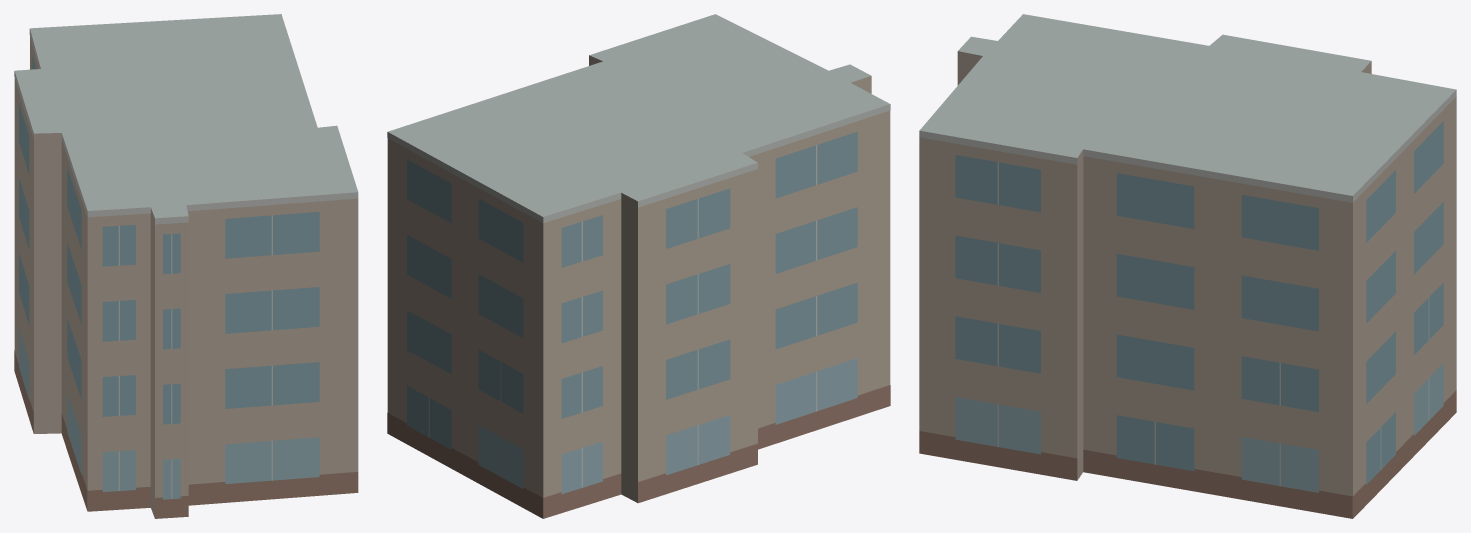
Rendered from survey-upis-32972164.glb.
The picture shows the model from 3 angles, left to right: view 1: azimuth 30°, elevation 25°; view 2: azimuth 150°, elevation 25°; view 3: azimuth 270°, elevation 25°; orthographic projection. The views are drawn at different scales.
Visible parts, largest first — view 1: survey-upis-32972164.tmp; view 2: survey-upis-32972164.tmp; view 3: survey-upis-32972164.tmp.
Boxes of the visible parts, x1,y1,x2,y2 form: survey-upis-32972164.tmp: (14,14,358,518); survey-upis-32972164.tmp: (387,14,890,518); survey-upis-32972164.tmp: (919,14,1456,518).
Bounding box in the file's own units: 14.16 × 11.7 × 17.66.
